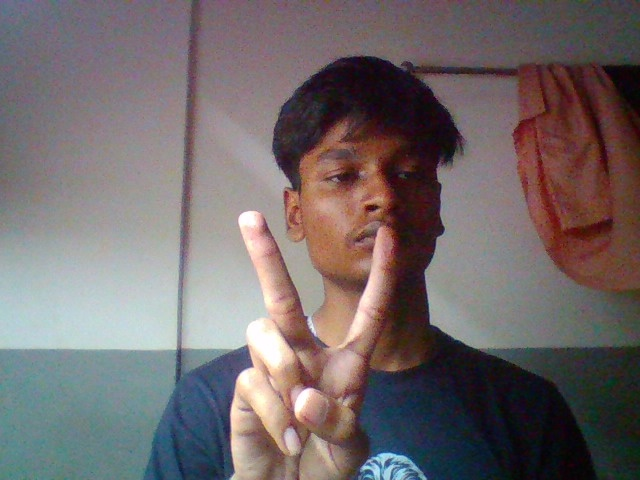V: (164, 201, 461, 480)
